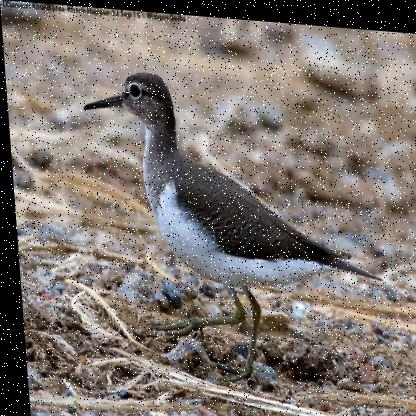Burung: (76, 57, 381, 395)
